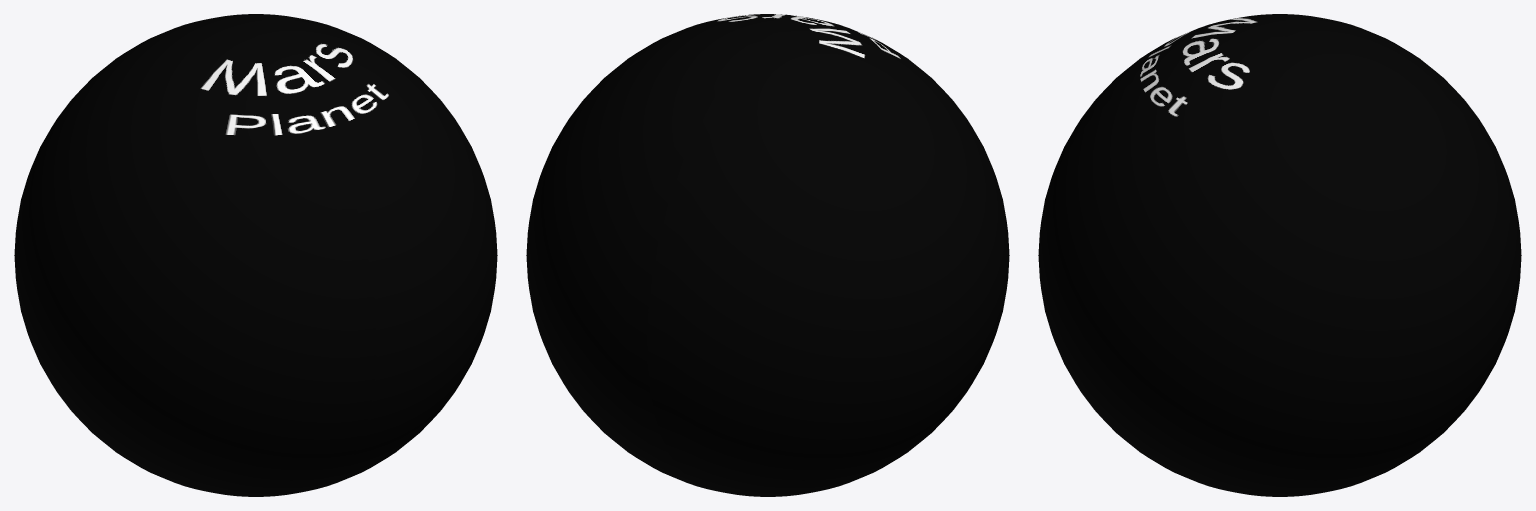
Rendered from Mars_exploded.fbx.
The picture shows the model from 3 angles, left to right: view 1: azimuth 30°, elevation 25°; view 2: azimuth 150°, elevation 25°; view 3: azimuth 270°, elevation 25°; orthographic projection.
Parts seen in each view (by area): view 1: Sphere001, Object002; view 2: Sphere001, Object002; view 3: Object002, Sphere001.
Boxes of the visible parts, x1=… form: Sphere001: x1=14, y1=19, x2=376, y2=496; Object002: x1=201, y1=14, x2=497, y2=488; Sphere001: x1=647, y1=19, x2=1009, y2=496; Object002: x1=526, y1=14, x2=822, y2=488; Object002: x1=1038, y1=36, x2=1521, y2=496; Sphere001: x1=1040, y1=14, x2=1519, y2=228.
Size of the model in its own units: 60.3 by 60.3 by 60.3.
